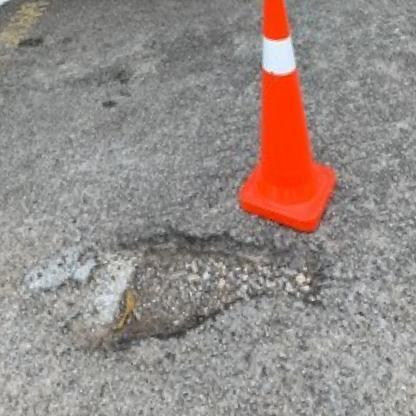pothole: (56, 230, 333, 359)
